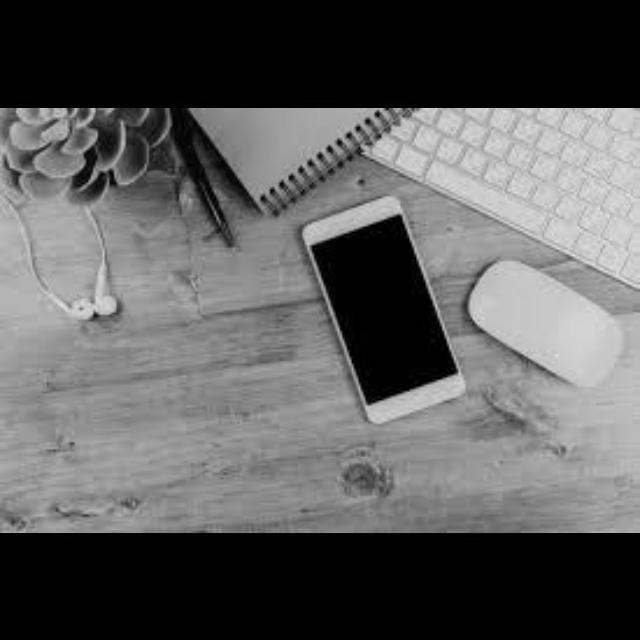fake: (312, 214, 458, 410)
